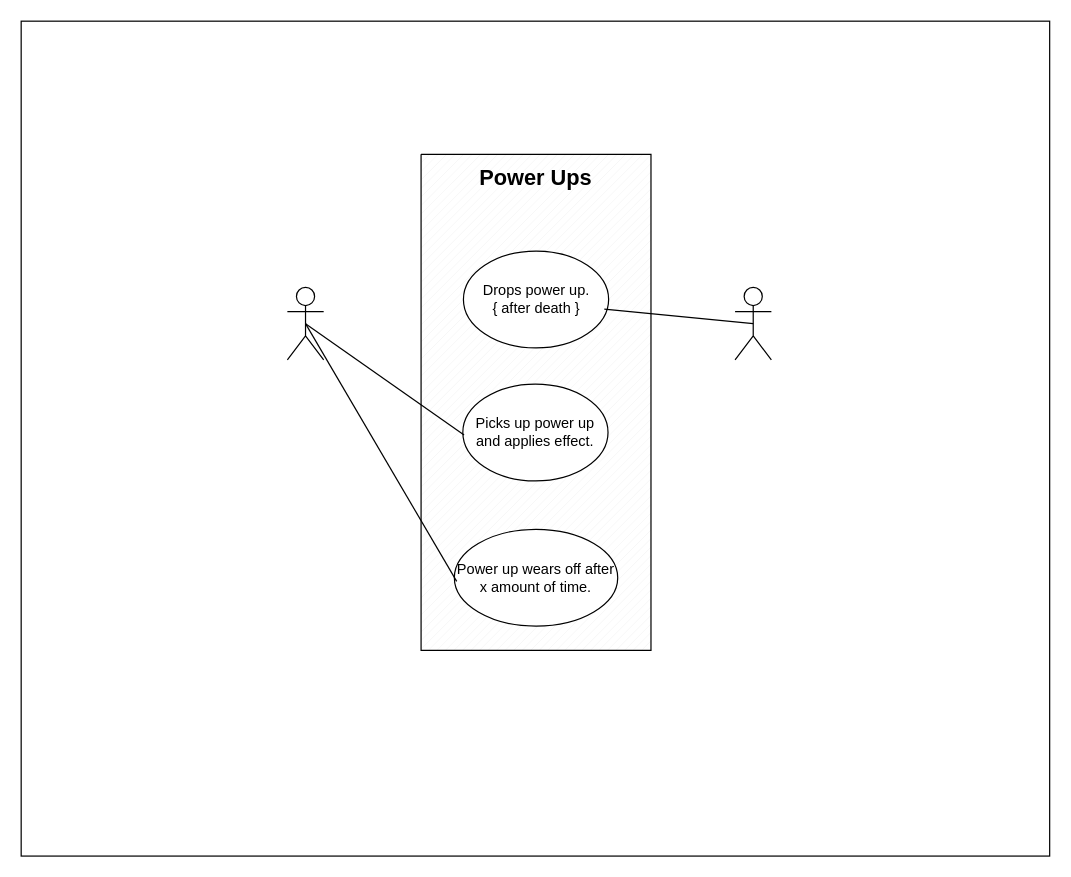
The diagram is 1071 pixels wide and 877 high, and some of its shapes have lost their labels. The centre of each missing label's shape, as x and y in pixels:
"Enemies" goes at point 752,323.
"Player" goes at point 305,323.
